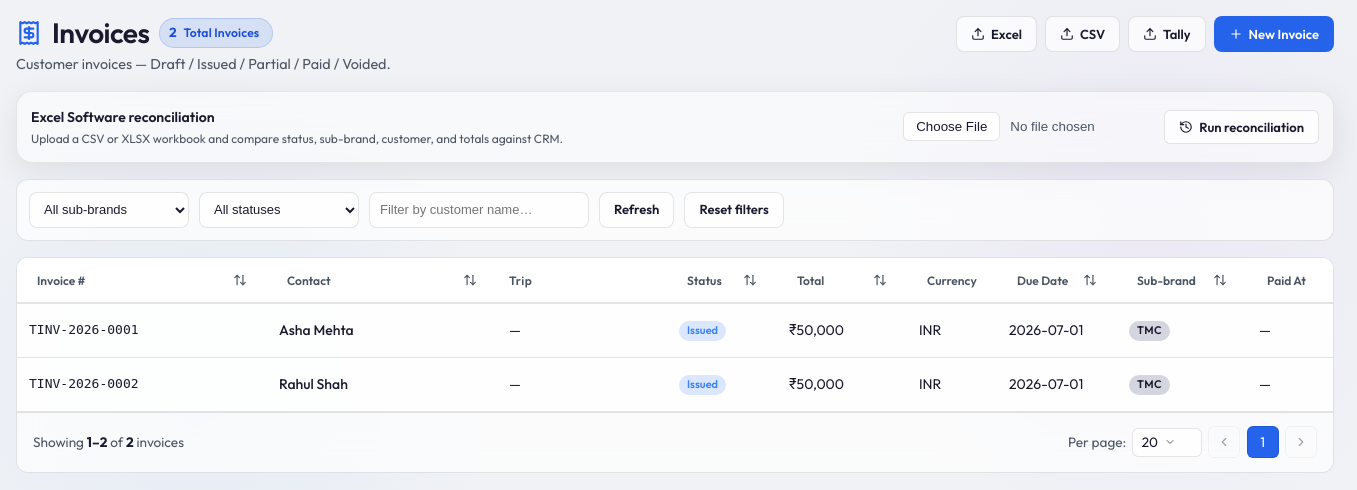
Test: <InvoicesAdmin /> — list fetch + filter chrome › customer name filter narrows visible rows by resolved contact name
This screenshot has width=1357, height=490.
Expected: the text "TINV-2026-0001" is shown, [17,303,267,357]
Expected: the text "TINV-2026-0002" is shown, [17,357,267,411]
Type "asha" into the field labelled "Filter by customer name…" at (479, 210), box [369,192,589,228]
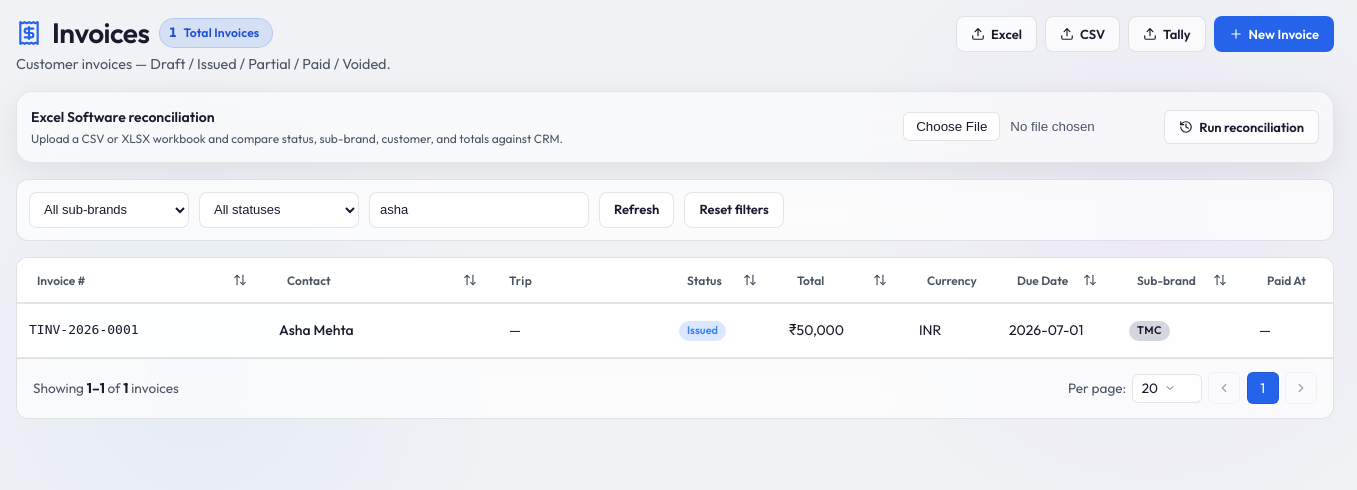
Expected: the text "TINV-2026-0001" is shown, [17,303,267,357]
Expected: the text "TINV-2026-0002" is gone
